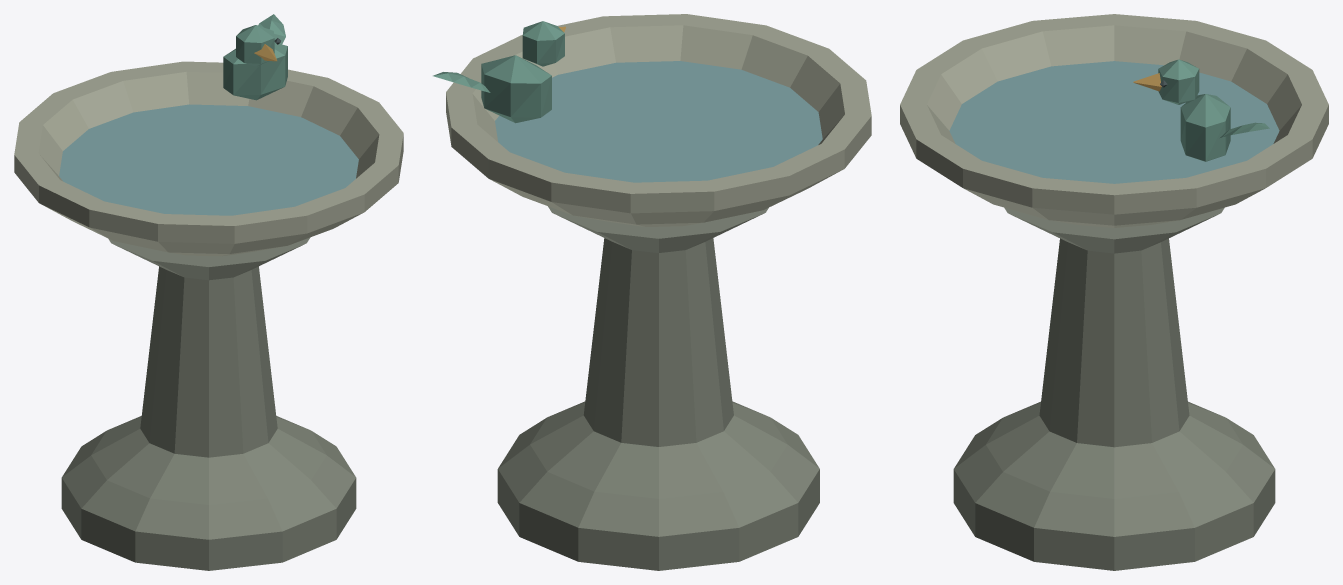
Rendered from decor_birdbath.glb.
The picture shows the model from 3 angles, left to right: view 1: azimuth 30°, elevation 25°; view 2: azimuth 150°, elevation 25°; view 3: azimuth 270°, elevation 25°; orthographic projection. The views are drawn at different scales.
Parts seen in each view (by area): view 1: geometry; view 2: geometry; view 3: geometry.
Part boxes in pixels (left/top/right/bottom): geometry: left=14, top=14, right=403, bottom=570; geometry: left=433, top=14, right=871, bottom=570; geometry: left=900, top=14, right=1328, bottom=570.
Size of the model in its own units: 0.8 by 0.997 by 0.8.
